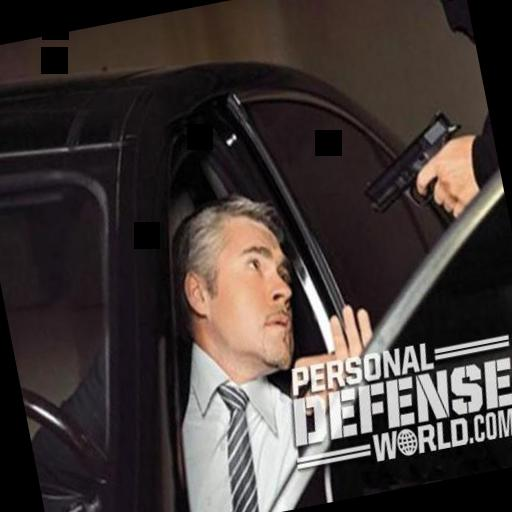Handgun: (348, 98, 482, 228)
